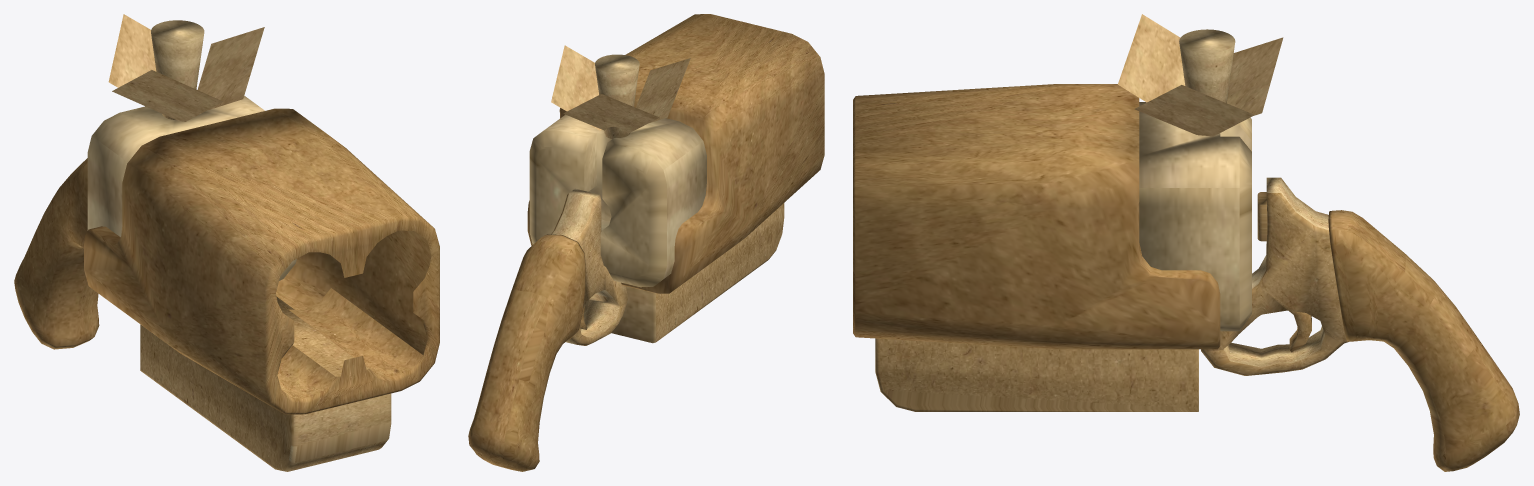
The model's file is CardBoardGun.fbx.
3 renders of one model, left to right at view 1: azimuth 30°, elevation 25°; view 2: azimuth 150°, elevation 25°; view 3: azimuth 270°, elevation 25°, orthographic. The views are drawn at different scales.
Parts seen in each view (by area): view 1: CardBoardGun; view 2: CardBoardGun; view 3: CardBoardGun.
Part boxes in pixels (bbox=[...]): CardBoardGun: bbox=[14, 14, 439, 471]; CardBoardGun: bbox=[468, 14, 824, 471]; CardBoardGun: bbox=[853, 14, 1519, 471].
Bounding box in the file's own units: 31.18 × 62.87 × 90.55.
Materials: 1 (1 with a texture image).
